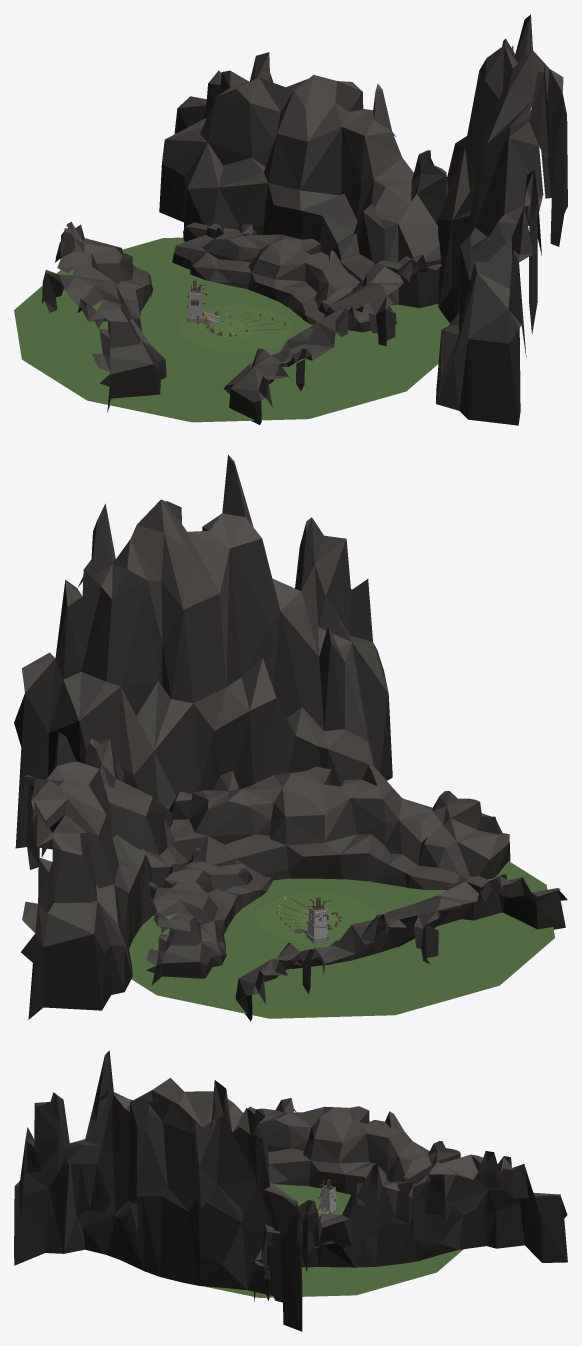
The model's file is narrowLoadingMap.glb.
3 views of the same model, one above another, from view 1: azimuth 30°, elevation 25°; view 2: azimuth 150°, elevation 25°; view 3: azimuth 270°, elevation 25° (orthographic). The views are drawn at different scales.
Parts seen in each view (by area): view 1: mountains_.002, mountains_.003, Cylinder, mountains_.005, mountains_.001, mountains_.004; view 2: mountains_.003, Cylinder, mountains_.002, mountains_.004, mountains_.005, mountains_.001; view 3: mountains_.003, mountains_.002, mountains_.005, Cylinder.
Boxes of the visible parts, x1=… form: mountains_.002: x1=159, y1=52, x2=448, y2=307; mountains_.003: x1=436, y1=14, x2=567, y2=425; Cylinder: x1=14, y1=237, x2=449, y2=422; mountains_.005: x1=42, y1=222, x2=166, y2=412; mountains_.001: x1=172, y1=222, x2=396, y2=332; mountains_.004: x1=223, y1=254, x2=441, y2=424; mountains_.003: x1=14, y1=455, x2=392, y2=848; Cylinder: x1=129, y1=861, x2=554, y2=1018; mountains_.002: x1=19, y1=732, x2=189, y2=1019; mountains_.004: x1=165, y1=765, x2=510, y2=889; mountains_.005: x1=235, y1=874, x2=567, y2=1021; mountains_.001: x1=146, y1=848, x2=272, y2=984; mountains_.003: x1=14, y1=1050, x2=302, y2=1331; mountains_.002: x1=252, y1=1151, x2=567, y2=1301; mountains_.005: x1=248, y1=1098, x2=460, y2=1194; Cylinder: x1=204, y1=1184, x2=463, y2=1297.
Size of what is drawn, in the model's own units: 309 by 190 by 379.
